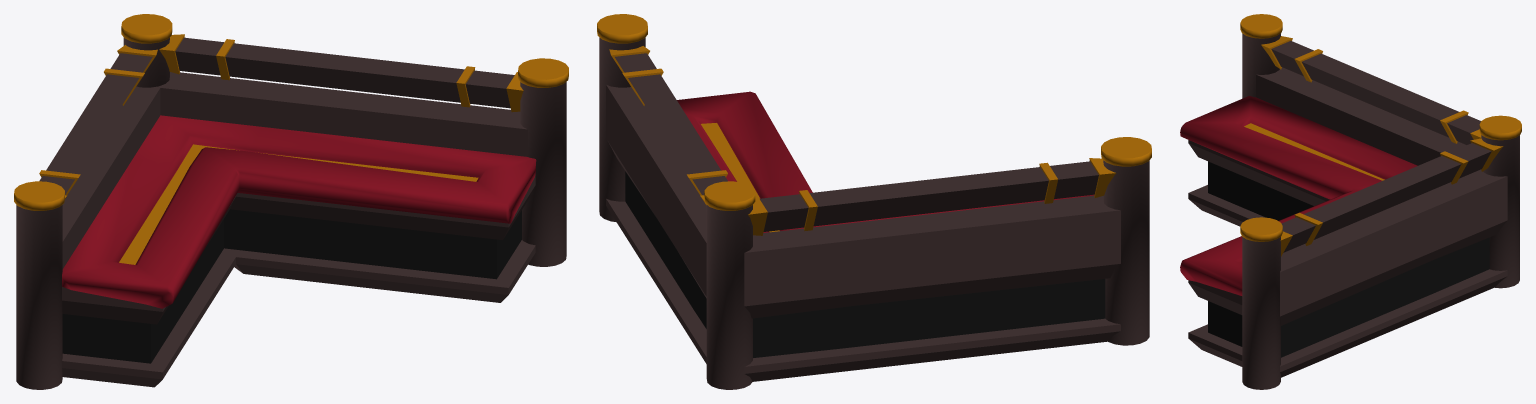
Rendered from Booth Corner Short.fbx.
The picture shows the model from 3 angles, left to right: view 1: azimuth 30°, elevation 25°; view 2: azimuth 150°, elevation 25°; view 3: azimuth 270°, elevation 25°; orthographic projection. The views are drawn at different scales.
Visible parts, largest first — view 1: Booth Corner Short; view 2: Booth Corner Short; view 3: Booth Corner Short.
Part boxes in pixels (<box>): Booth Corner Short: <box>14,14,568,389</box>; Booth Corner Short: <box>597,14,1151,389</box>; Booth Corner Short: <box>1180,14,1521,389</box>.
Bounding box in the file's own units: 326 × 107 × 213.
